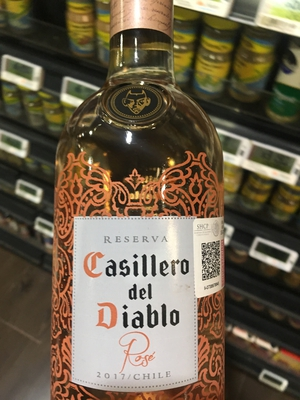casillero del diablo rose: (37, 27, 242, 400)
